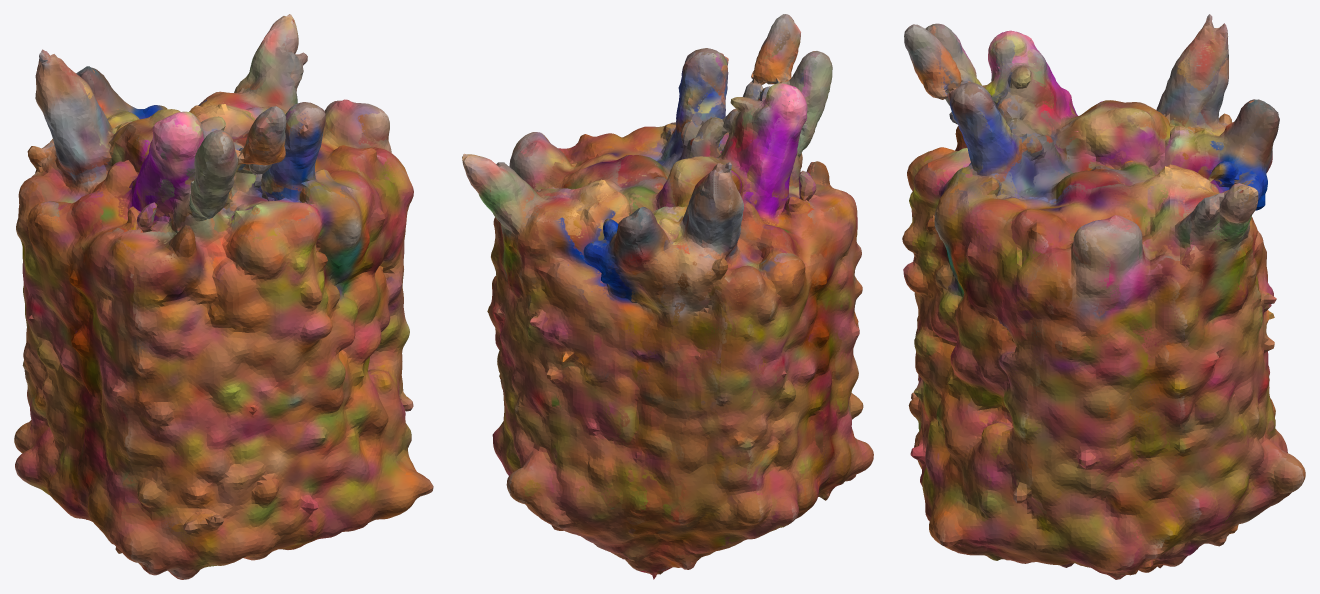
Rendered from Brown_pen_holder_DG_2.glb.
The picture shows the model from 3 angles, left to right: view 1: azimuth 30°, elevation 25°; view 2: azimuth 150°, elevation 25°; view 3: azimuth 270°, elevation 25°; orthographic projection. The views are drawn at different scales.
Bounding box in the file's own units: 1.45 × 2.13 × 1.48.
Materials: 1 (1 with a texture image).
